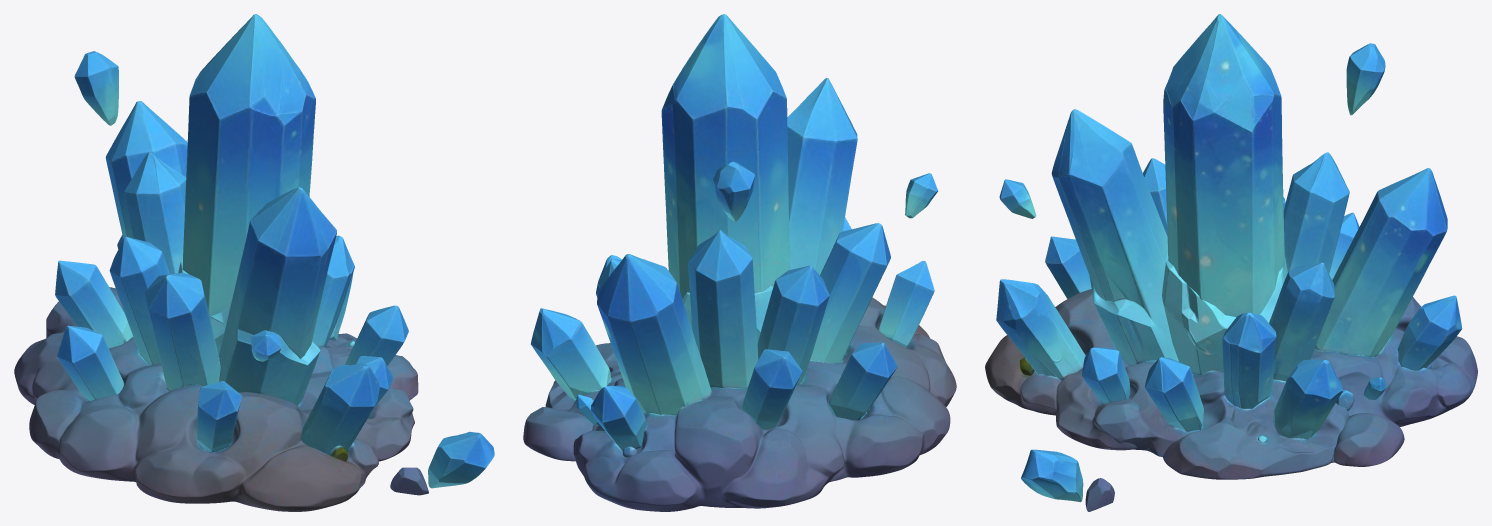
File: obstacle.glb
3 renders of one model, left to right at view 1: azimuth 30°, elevation 25°; view 2: azimuth 150°, elevation 25°; view 3: azimuth 270°, elevation 25°, orthographic.
Bounding box in the file's own units: 0.8105 × 0.979 × 0.9787.
1 material, 1 textured.
